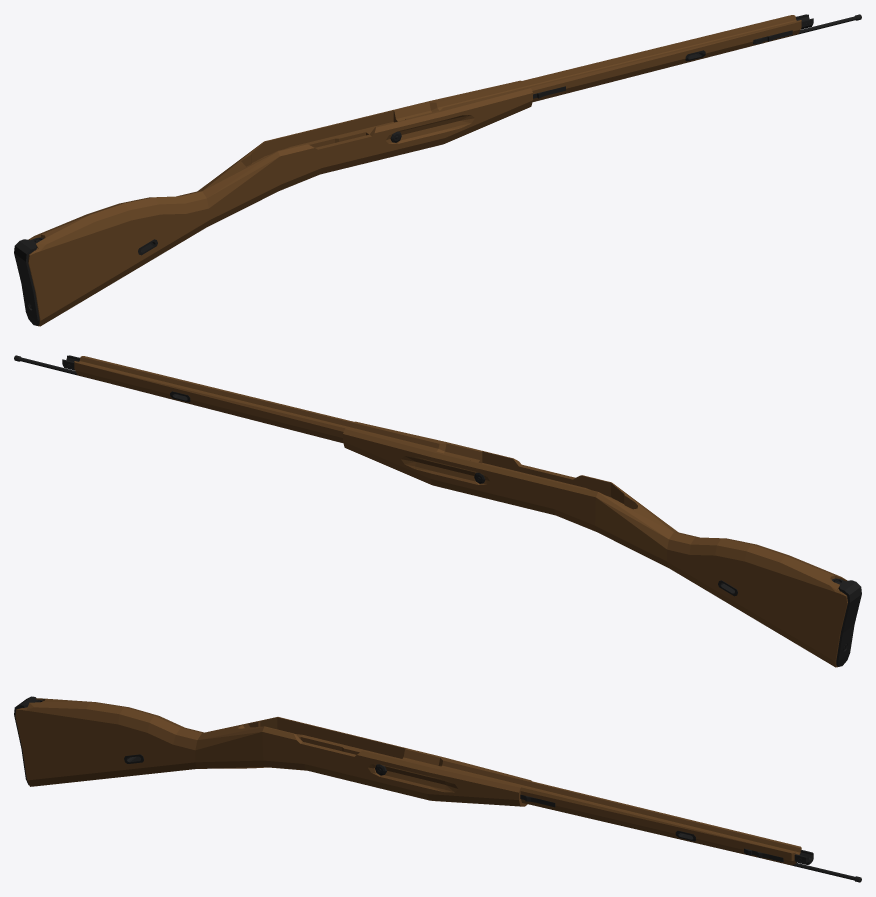
Rendered from mosin_nagant_189130_stock.glb.
3 renders of one model, top to bottom at view 1: azimuth 30°, elevation 25°; view 2: azimuth 150°, elevation 25°; view 3: azimuth 330°, elevation 25°, orthographic.
Parts seen in each view (by area): view 1: mosin9130 stock_7 (×2); view 2: mosin9130 stock_7 (×2); view 3: mosin9130 stock_7 (×2).
Part boxes in pixels (x1,y1,x2,y2): mosin9130 stock_7 (×2): [14, 14, 861, 326]; mosin9130 stock_7 (×2): [14, 355, 861, 667]; mosin9130 stock_7 (×2): [14, 696, 861, 882].
Bounding box in the file's own units: 12.19 × 1.69 × 0.4445.
